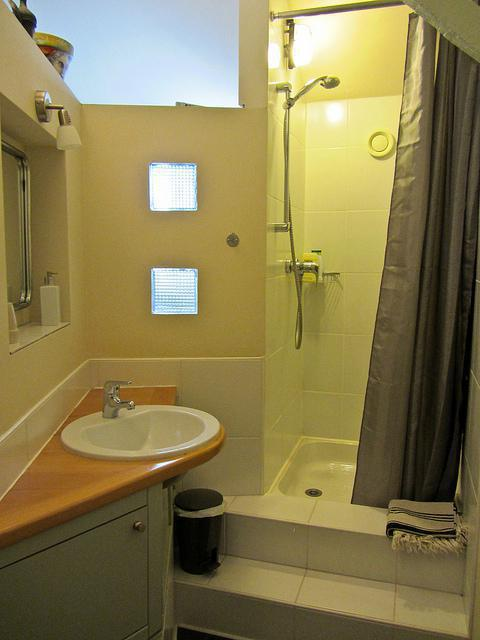Bote de Basura: (168, 485, 224, 577)
Ducha: (265, 11, 474, 569)
Lavamanos: (62, 375, 224, 469)
